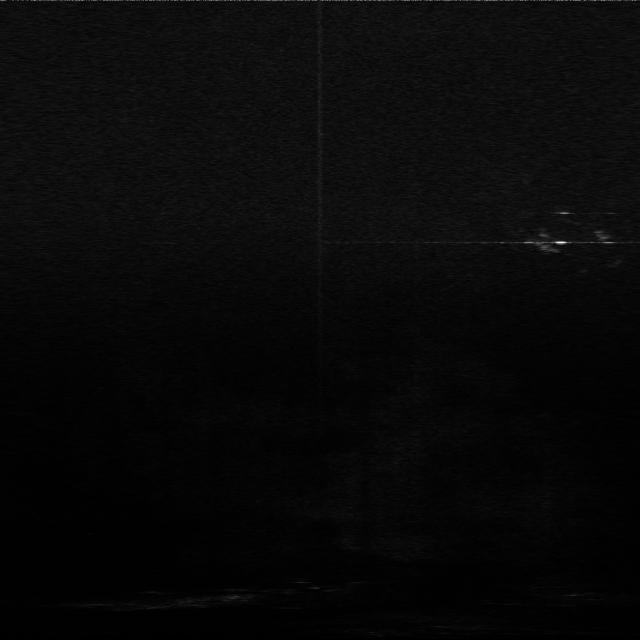rov: (589, 228, 622, 246)
